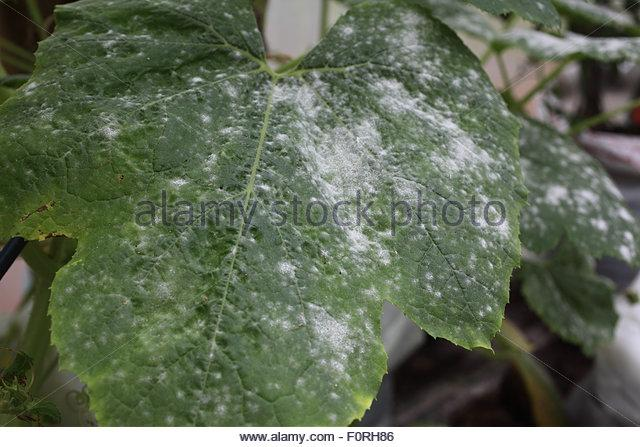Squash Powdery mildew leaf: (1, 3, 540, 432)
